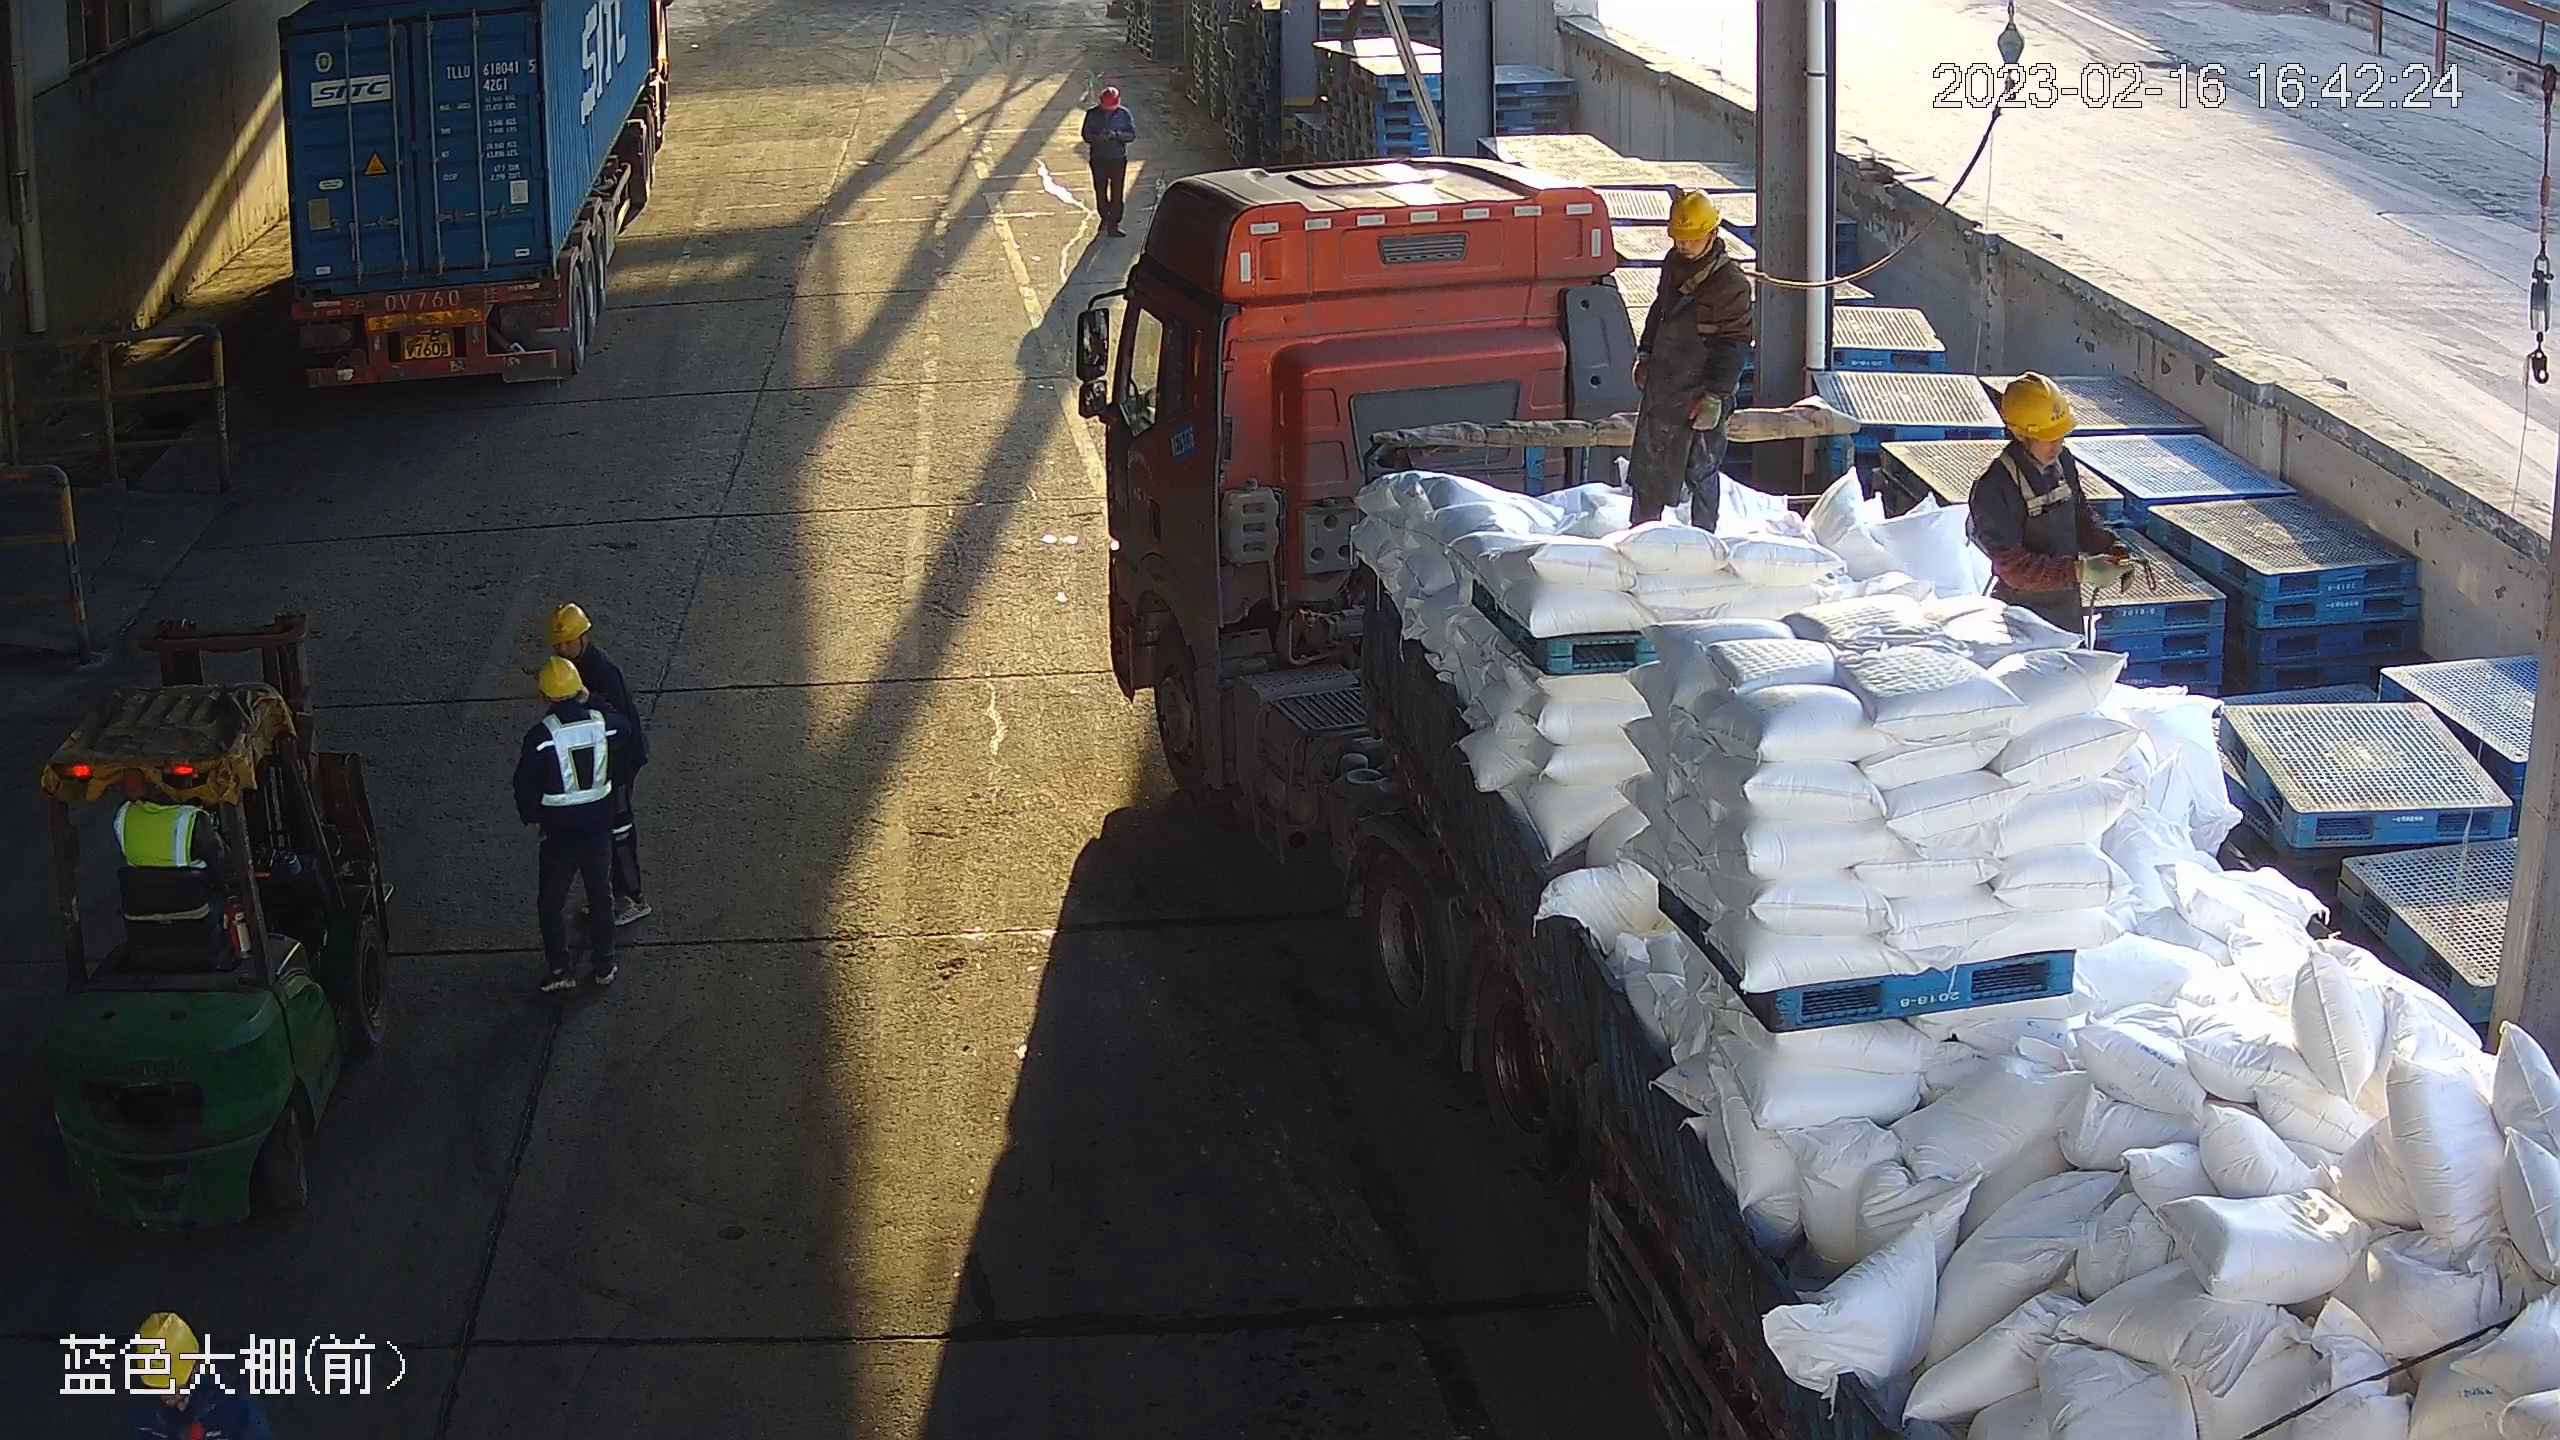belt: (1673, 255, 1774, 336), (1988, 448, 2083, 514)
head: (1974, 372, 2091, 506), (1647, 187, 1750, 299), (509, 657, 617, 762)
helmet: (1999, 373, 2081, 443), (126, 1315, 197, 1386), (1666, 187, 1723, 239), (536, 659, 586, 700), (545, 602, 592, 640), (1099, 86, 1122, 107)
people: (1969, 371, 2135, 660), (1623, 187, 1755, 533), (511, 656, 621, 993), (544, 600, 649, 926), (1081, 86, 1138, 239)
truck: (1075, 148, 2560, 1440), (268, 1, 672, 395)
